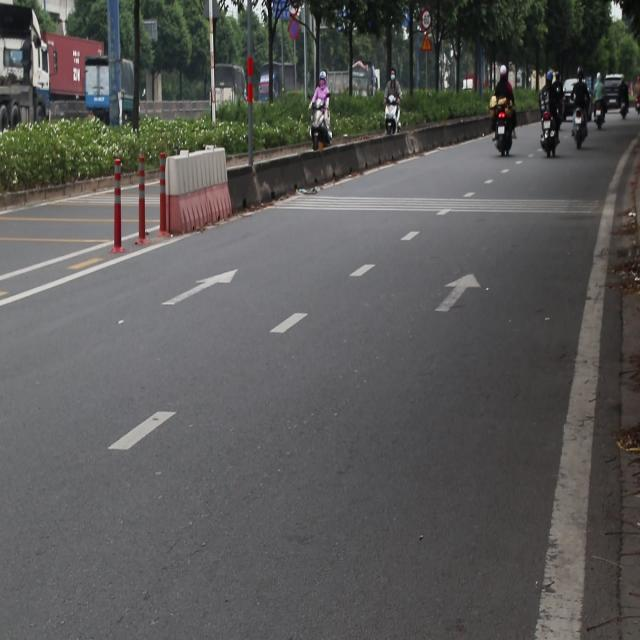car: (609, 64, 627, 108), (562, 80, 577, 104)
motorbike: (306, 102, 338, 160), (382, 90, 402, 148), (538, 114, 556, 163), (496, 111, 514, 158), (595, 101, 607, 133), (578, 111, 587, 142)
truck: (0, 20, 48, 126), (88, 59, 142, 150), (208, 57, 250, 139)
